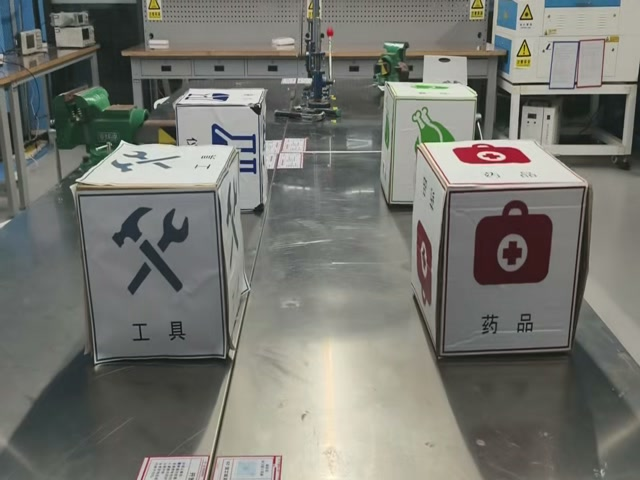Cube_food: (386, 82, 476, 101)
Cube_ins: (175, 88, 265, 111)
Cube_medicine: (419, 140, 575, 194)
Cube_tool: (75, 142, 237, 193)
